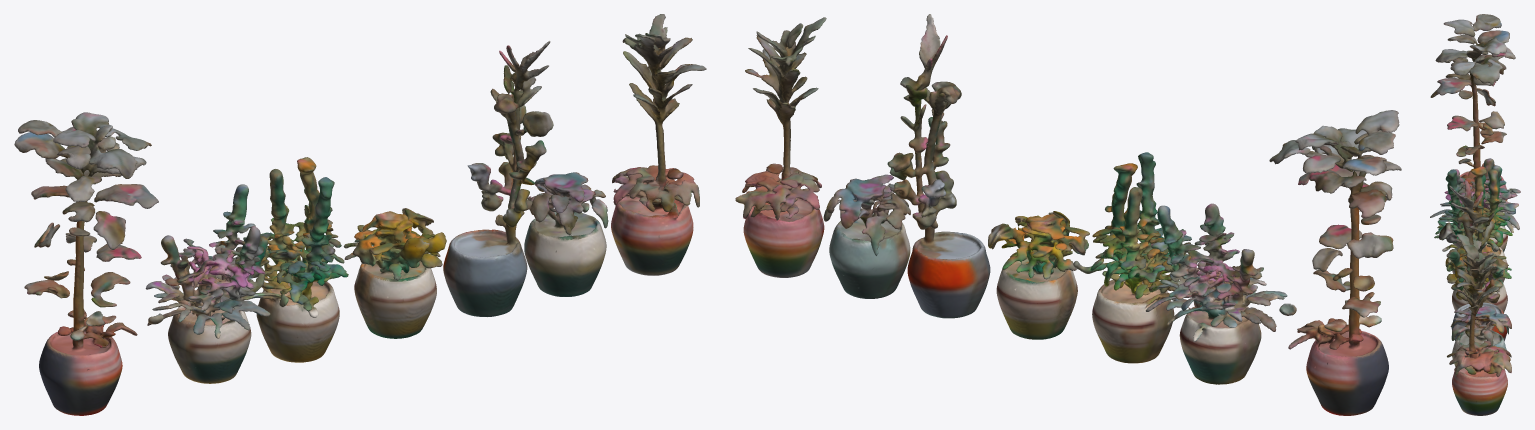
Rendered from Meshy_AI_Colorful_Potted_Plant_0204094928_texture.glb.
3 views of the same model, side by side, from view 1: azimuth 30°, elevation 25°; view 2: azimuth 150°, elevation 25°; view 3: azimuth 270°, elevation 25° (orthographic). The views are drawn at different scales.
Size of the model in its own units: 2 by 0.8232 by 0.3516.
Materials: 1 (1 with a texture image).
